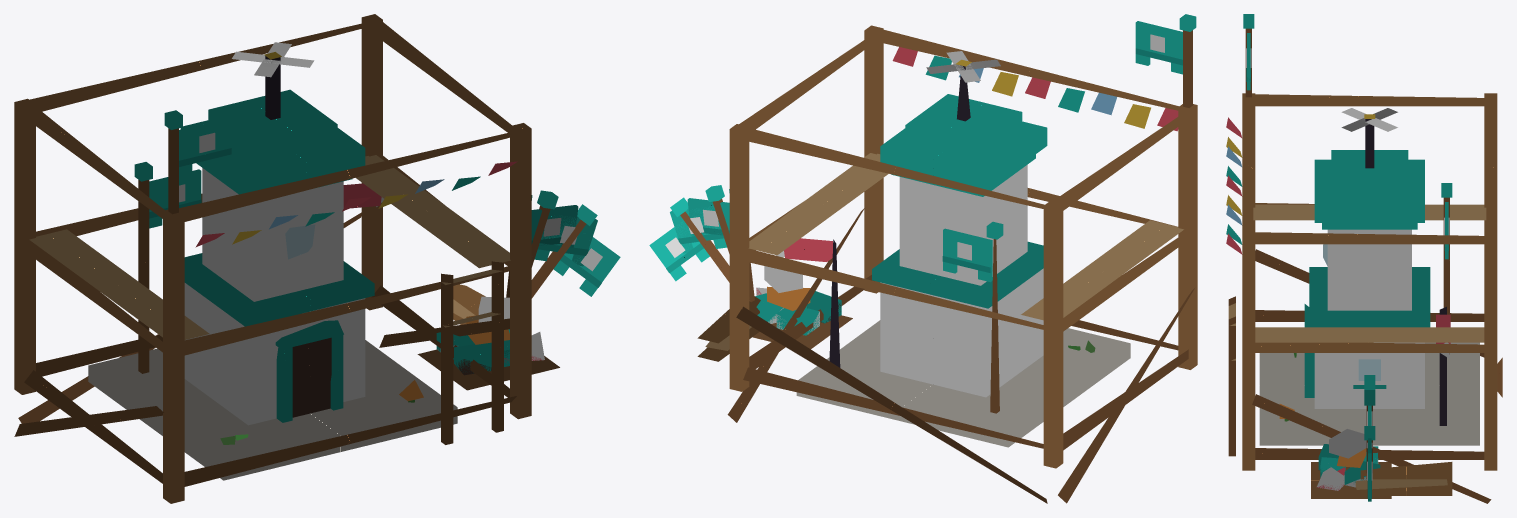
File: hummingbird-research_lod1.glb
The picture shows the model from 3 angles, left to right: view 1: azimuth 30°, elevation 25°; view 2: azimuth 150°, elevation 25°; view 3: azimuth 270°, elevation 25°; orthographic projection. The views are drawn at different scales.
Parts seen in each view (by area): view 1: scaffold-mesh, dismantle-75-mesh, built-mesh, dismantle-50-mesh, dismantle-25-mesh, scaffold-banner, flag-pole, dismantle-25-banner, banner, dismantle-50-banner, scaffold-flag-pole, dismantle-75-banner (+2 smaller); view 2: scaffold-mesh, built-mesh, dismantle-75-mesh, dismantle-50-mesh, dismantle-25-mesh, banner, scaffold-banner, flag-pole, dismantle-25-banner, dismantle-50-banner, scaffold-flag-pole, dismantle-75-banner (+2 smaller); view 3: scaffold-mesh, dismantle-75-mesh, built-mesh, dismantle-50-mesh, dismantle-25-mesh, flag-pole, scaffold-flag-pole.
Boxes of the visible parts, left/top/right/bottom form: scaffold-mesh: left=14, top=14, right=531, bottom=503; dismantle-75-mesh: left=88, top=181, right=509, bottom=463; built-mesh: left=88, top=42, right=414, bottom=480; dismantle-50-mesh: left=184, top=248, right=544, bottom=424; dismantle-25-mesh: left=184, top=296, right=559, bottom=407; scaffold-banner: left=179, top=118, right=231, bottom=176; flag-pole: left=134, top=162, right=152, bottom=373; dismantle-25-banner: left=553, top=237, right=620, bottom=296; banner: left=149, top=169, right=201, bottom=228; dismantle-50-banner: left=534, top=215, right=597, bottom=266; scaffold-flag-pole: left=164, top=110, right=182, bottom=214; dismantle-75-banner: left=531, top=205, right=578, bottom=247; scaffold-mesh: left=697, top=25, right=1197, bottom=503; built-mesh: left=776, top=51, right=1130, bottom=447; dismantle-75-mesh: left=768, top=177, right=1129, bottom=432; dismantle-50-mesh: left=755, top=236, right=1095, bottom=397; dismantle-25-mesh: left=752, top=266, right=1042, bottom=396; banner: left=942, top=228, right=992, bottom=282; scaffold-banner: left=1135, top=21, right=1182, bottom=74; flag-pole: left=986, top=221, right=1003, bottom=413; dismantle-25-banner: left=649, top=222, right=709, bottom=281; dismantle-50-banner: left=670, top=206, right=727, bottom=253; scaffold-flag-pole: left=1179, top=14, right=1196, bottom=107; dismantle-75-banner: left=687, top=198, right=729, bottom=236; scaffold-mesh: left=1226, top=93, right=1502, bottom=503; dismantle-75-mesh: left=1259, top=229, right=1479, bottom=487; built-mesh: left=1284, top=108, right=1449, bottom=421; dismantle-50-mesh: left=1295, top=283, right=1430, bottom=490; dismantle-25-mesh: left=1286, top=372, right=1391, bottom=498; flag-pole: left=1441, top=183, right=1452, bottom=354; scaffold-flag-pole: left=1243, top=14, right=1254, bottom=97.
Size of the model in its own units: 2.73 by 2.1 by 1.51.
